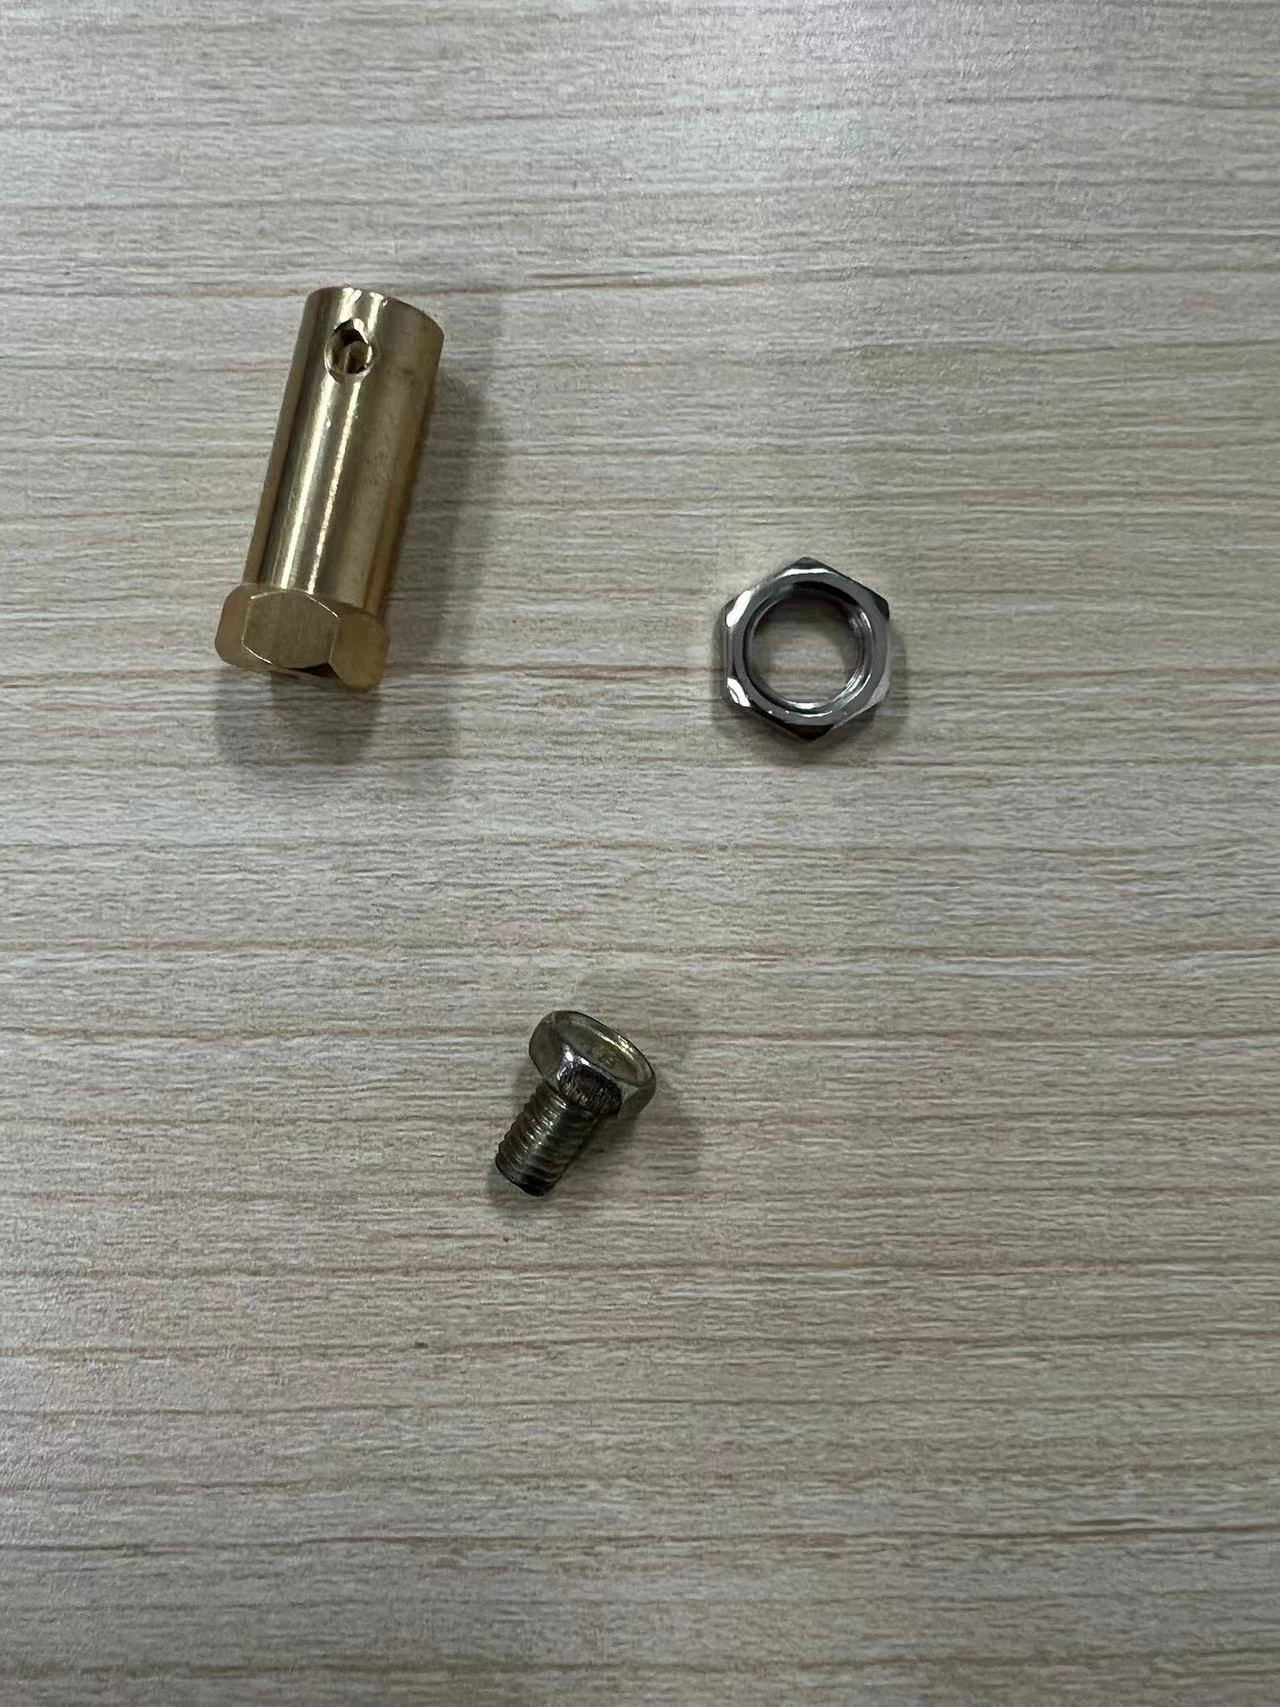Hexagon nut: (687, 546, 922, 778)
Hexagon pillar: (207, 276, 450, 715)
Hexagon screw: (458, 989, 674, 1218)
